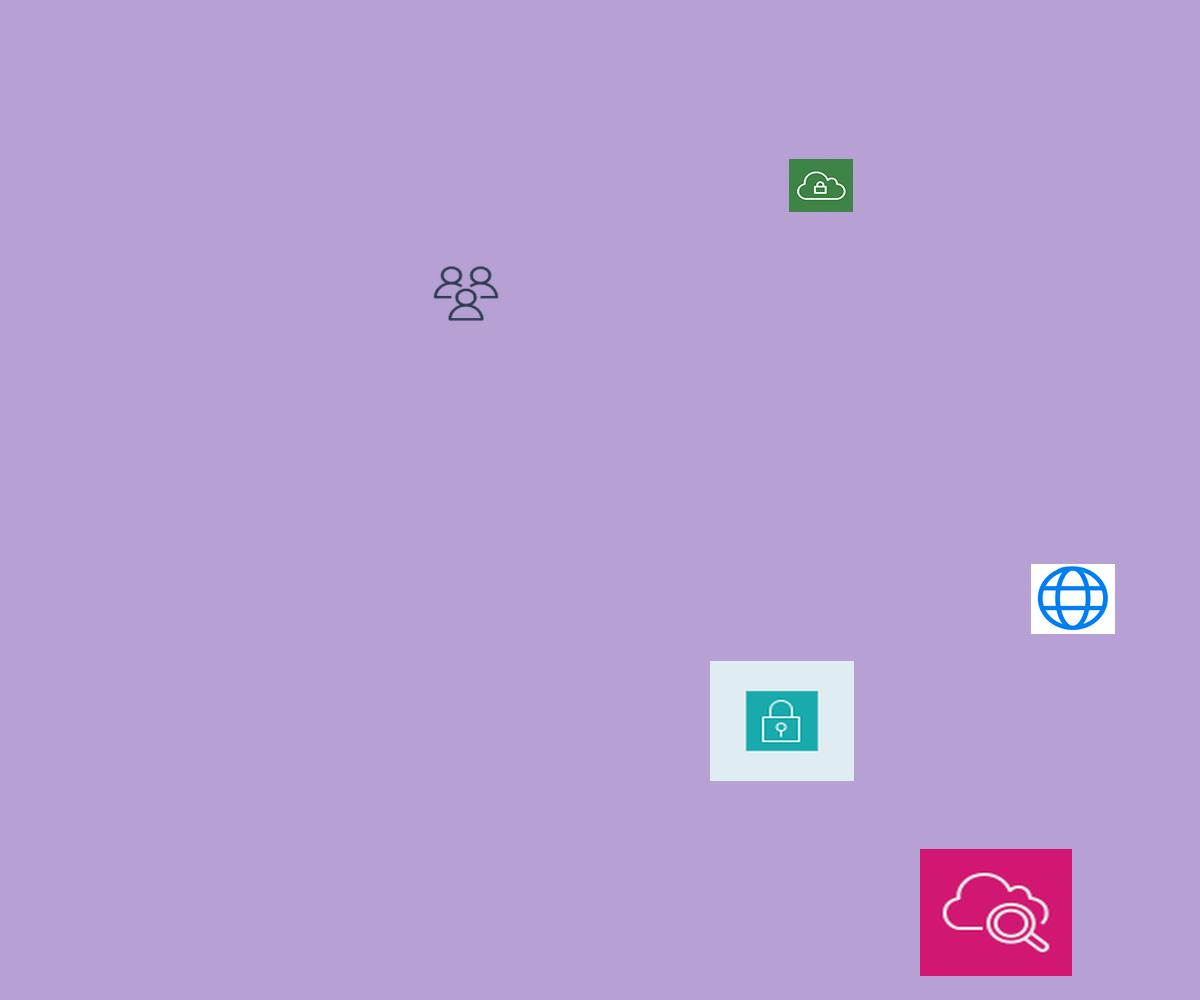AWS-CloudWatch: (920, 849, 1072, 976)
AWS-Private-subnet: (710, 661, 854, 781)
AWS-Private_vpc: (789, 159, 853, 212)
AWS-Res_Users: (431, 264, 501, 323)
Azure_http: (1031, 564, 1115, 634)
